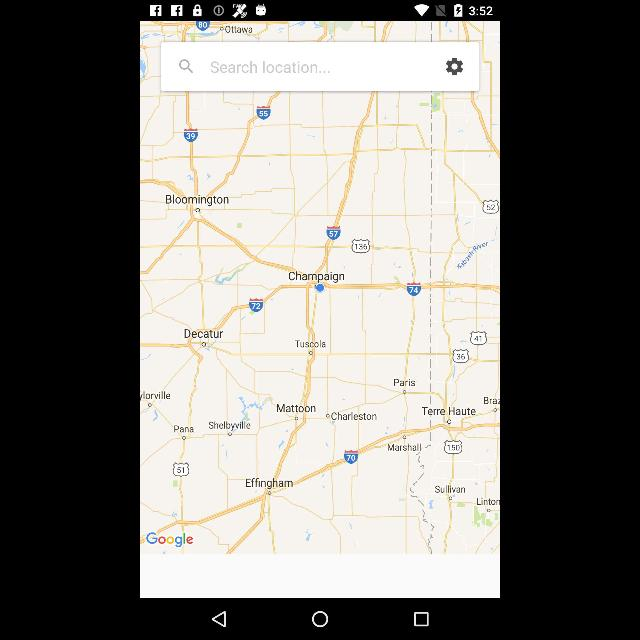icon: (446, 56, 464, 76), (211, 610, 227, 628), (312, 609, 328, 627), (178, 58, 194, 74), (413, 611, 429, 627)
input: (161, 42, 479, 92)
map: (140, 21, 500, 553)
panel: (140, 599, 500, 639)
text: (210, 59, 332, 75)
uppertaskbar: (140, 1, 500, 21)
